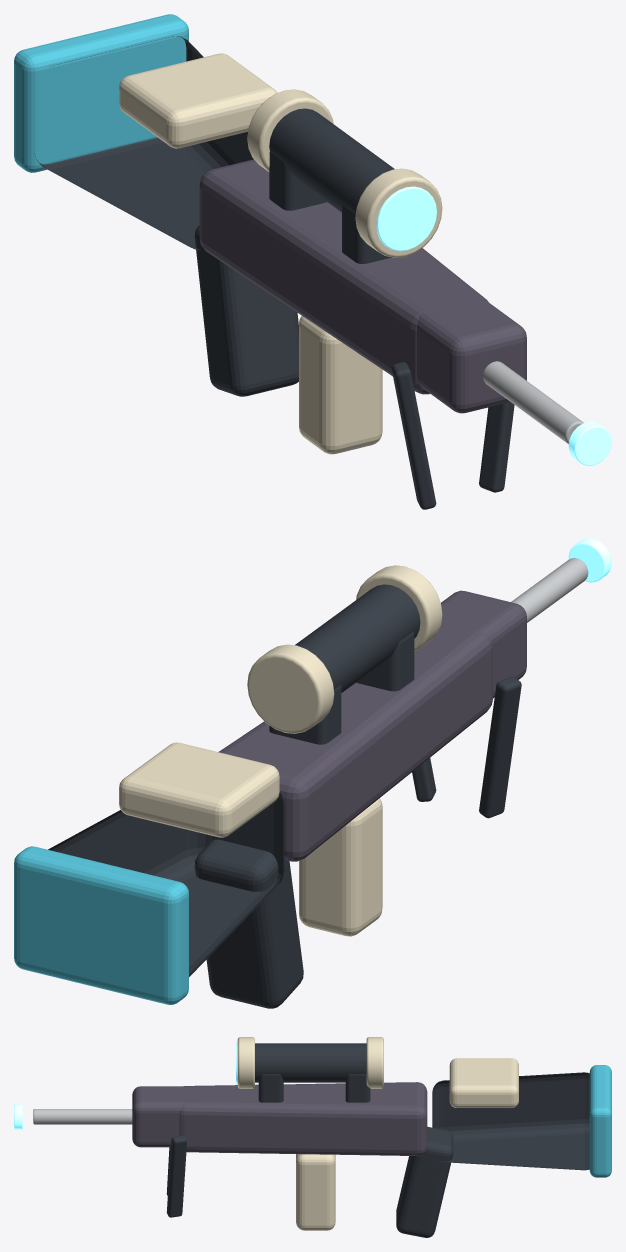
File: sniper.glb
3 renders of one model, top to bottom at view 1: azimuth 30°, elevation 25°; view 2: azimuth 150°, elevation 25°; view 3: azimuth 270°, elevation 25°, orthographic. The views are drawn at different scales.
Visible parts, largest first — view 1: SlimBody, StockPad, Stock, Grip, BarrelShroud, CheekRest, Magazine, ScopeTube, ScopeLens, ScopeFrontRing, LongBarrel, BipodLeft (+5 smaller); view 2: SlimBody, StockPad, Stock, Grip, CheekRest, Magazine, ScopeTube, ScopeRearRing, BarrelShroud, BipodLeft, ScopeFrontRing, LongBarrel (+4 smaller); view 3: SlimBody, Stock, Grip, ScopeTube, CheekRest, Magazine, BarrelShroud, StockPad, LongBarrel, BipodRight, ScopeFrontRing, ScopeRearRing (+2 smaller).
Boxes of the visible parts, bbox=[...] form: SlimBody: bbox=[199, 159, 488, 394]; StockPad: bbox=[14, 14, 188, 172]; Stock: bbox=[34, 36, 253, 250]; Grip: bbox=[194, 225, 298, 396]; BarrelShroud: bbox=[402, 283, 526, 413]; CheekRest: bbox=[119, 53, 277, 148]; Magazine: bbox=[299, 316, 382, 454]; ScopeTube: bbox=[269, 108, 394, 213]; ScopeLens: bbox=[376, 186, 436, 251]; ScopeFrontRing: bbox=[355, 168, 442, 257]; LongBarrel: bbox=[483, 361, 583, 443]; BipodLeft: bbox=[391, 362, 436, 509]; SlimBody: bbox=[218, 622, 492, 861]; StockPad: bbox=[14, 846, 188, 1004]; Stock: bbox=[48, 791, 284, 976]; Grip: bbox=[194, 839, 303, 1008]; CheekRest: bbox=[119, 742, 279, 837]; Magazine: bbox=[299, 798, 382, 936]; ScopeTube: bbox=[295, 584, 420, 692]; ScopeRearRing: bbox=[247, 644, 334, 733]; BarrelShroud: bbox=[436, 590, 526, 698]; BipodLeft: bbox=[479, 677, 521, 818]; ScopeFrontRing: bbox=[356, 565, 442, 651]; LongBarrel: bbox=[511, 558, 588, 622]; SlimBody: bbox=[179, 1082, 427, 1155]; Stock: bbox=[432, 1072, 589, 1170]; Grip: bbox=[396, 1126, 453, 1237]; ScopeTube: bbox=[255, 1043, 366, 1082]; CheekRest: bbox=[449, 1058, 518, 1107]; Magazine: bbox=[296, 1154, 335, 1230]; BarrelShroud: bbox=[132, 1086, 187, 1147]; StockPad: bbox=[589, 1065, 611, 1177]; LongBarrel: bbox=[33, 1109, 132, 1124]; BipodRight: bbox=[166, 1135, 186, 1217]; ScopeFrontRing: bbox=[237, 1037, 254, 1088]; ScopeRearRing: bbox=[366, 1037, 383, 1088].
Size of the model in its own units: 0.46 by 0.8503 by 2.41.
